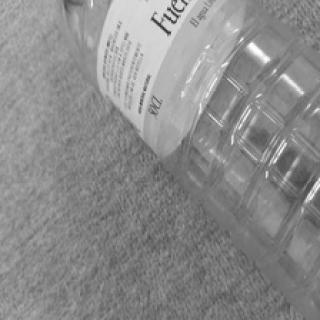plastic_bottles: (52, 0, 320, 320)
